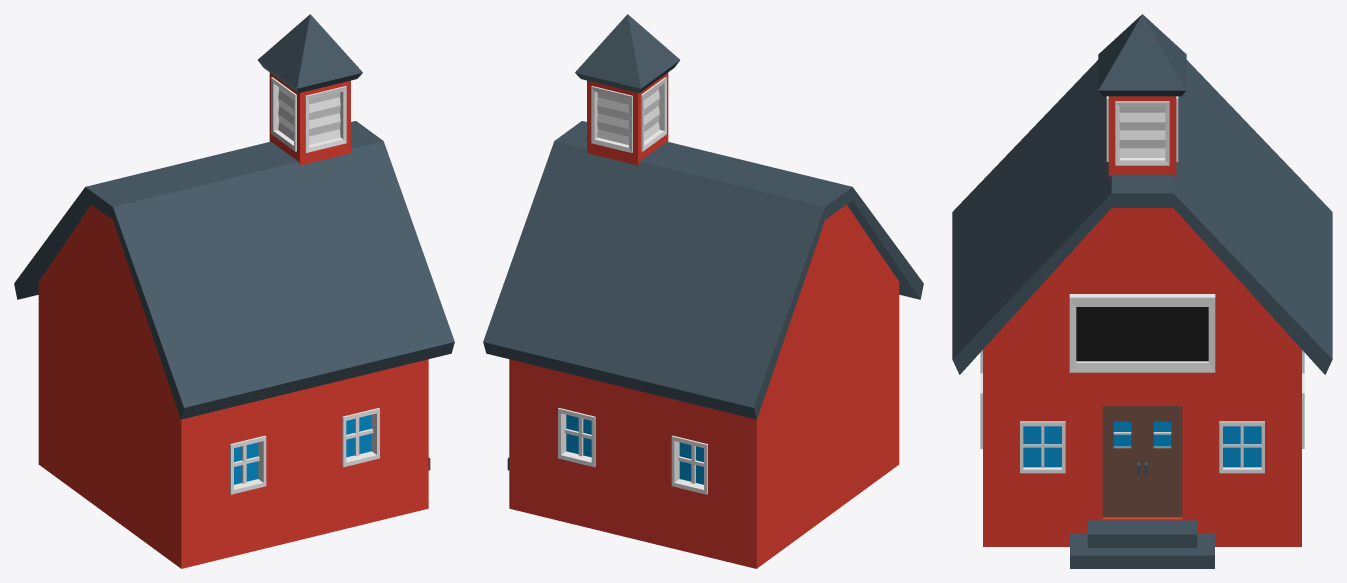
File: scene_M21Ar31nkr.glb
3 renders of one model, left to right at view 1: azimuth 30°, elevation 25°; view 2: azimuth 150°, elevation 25°; view 3: azimuth 270°, elevation 25°, orthographic. The views are drawn at different scales.
Visible parts, largest first — view 1: SchoolHouse_Cube.030; view 2: SchoolHouse_Cube.030; view 3: SchoolHouse_Cube.030.
Part boxes in pixels (bbox=[...]): SchoolHouse_Cube.030: bbox=[14, 14, 454, 568]; SchoolHouse_Cube.030: bbox=[483, 14, 923, 568]; SchoolHouse_Cube.030: bbox=[952, 14, 1332, 568].
Bounding box in the file's own units: 6.93 × 10.05 × 6.83.
